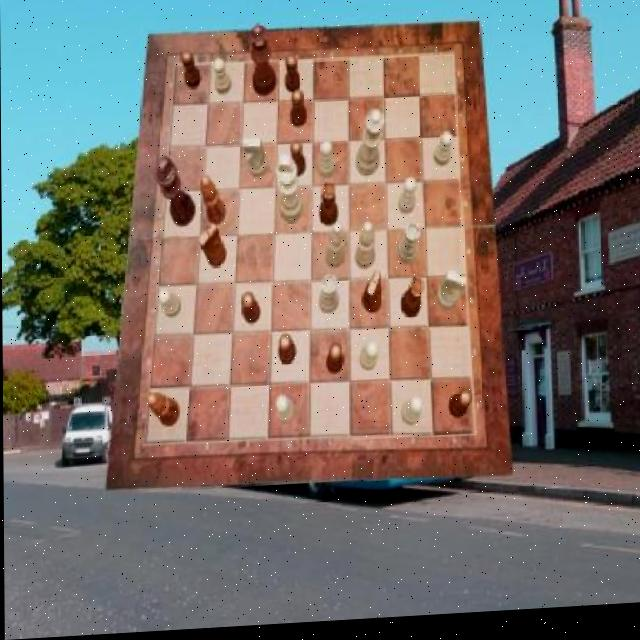bishop: (200, 177, 225, 229), (146, 394, 180, 430)
black-bishop: (155, 157, 195, 232)
black-king: (197, 225, 224, 272), (362, 275, 382, 318)
black-knight: (181, 52, 202, 92), (448, 394, 472, 424), (290, 92, 307, 131), (284, 57, 301, 96), (289, 143, 306, 181), (326, 347, 344, 379), (243, 296, 260, 329), (277, 337, 294, 369)
black-pawn: (249, 27, 276, 101)
black-queen: (399, 282, 423, 325), (318, 184, 337, 231)
black-rook: (324, 225, 345, 272), (354, 226, 374, 274)
white-bishop: (275, 157, 303, 227)
white-king: (436, 275, 466, 315), (243, 138, 267, 181)
white-knight: (433, 137, 454, 172), (156, 290, 180, 320), (397, 182, 415, 221), (400, 400, 423, 430), (212, 62, 230, 99), (317, 144, 333, 184), (359, 344, 378, 376), (274, 399, 293, 427)
white-pawn: (355, 115, 386, 182)
white-queen: (395, 228, 419, 269), (317, 278, 337, 318)
